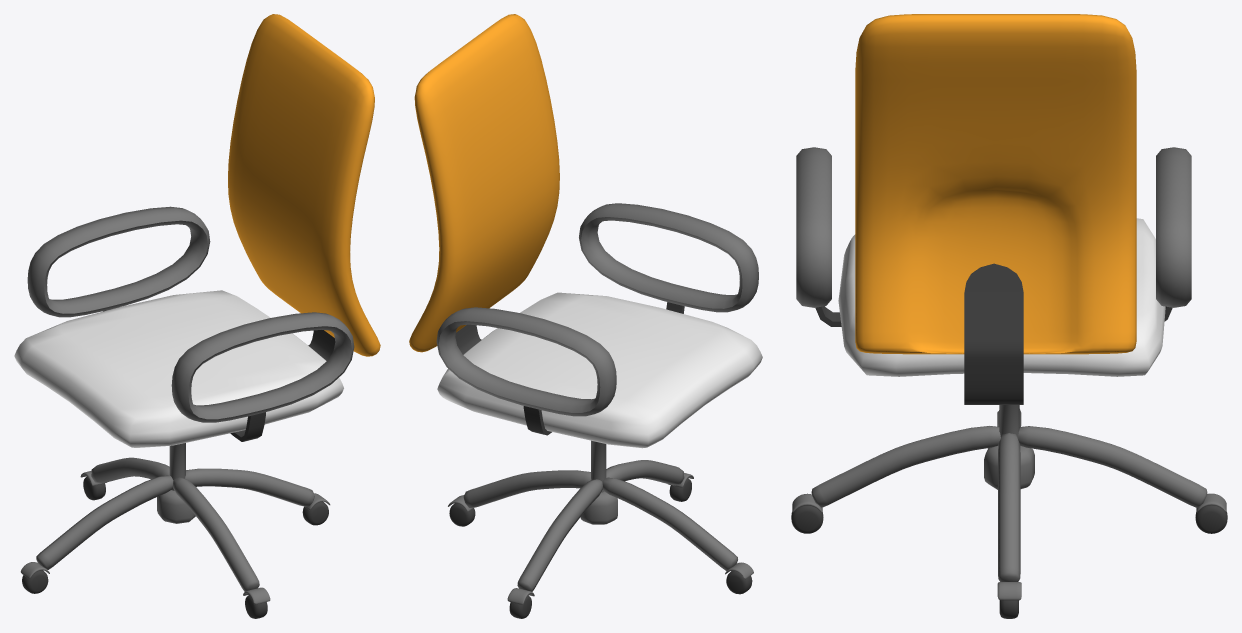
The model's file is Office Chair04.fbx.
3 views of the same model, side by side, from view 1: azimuth 30°, elevation 25°; view 2: azimuth 150°, elevation 25°; view 3: azimuth 270°, elevation 25° (orthographic). The views are drawn at different scales.
Parts seen in each view (by area): view 1: Office Chair04; view 2: Office Chair04; view 3: Office Chair04.
Part boxes in pixels (bbox=[...]): Office Chair04: bbox=[14, 14, 380, 618]; Office Chair04: bbox=[409, 14, 762, 618]; Office Chair04: bbox=[791, 14, 1227, 618].
Size of the model in its own units: 0.453 by 0.453 by 0.69.
